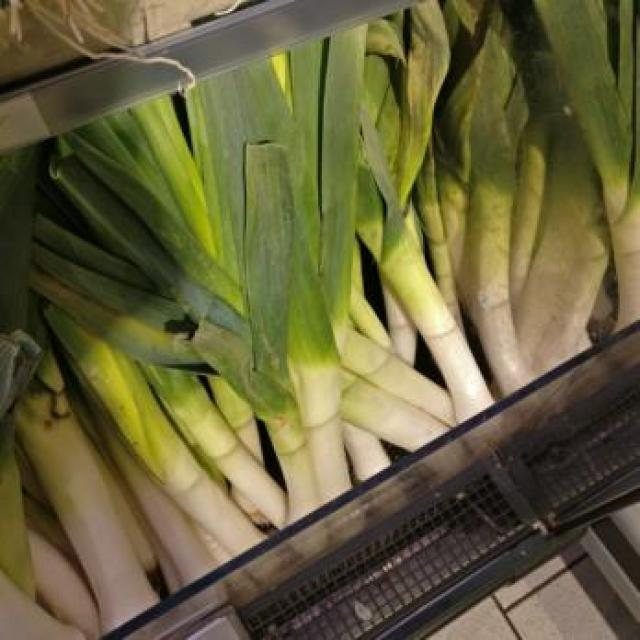leek: (191, 76, 375, 537)
